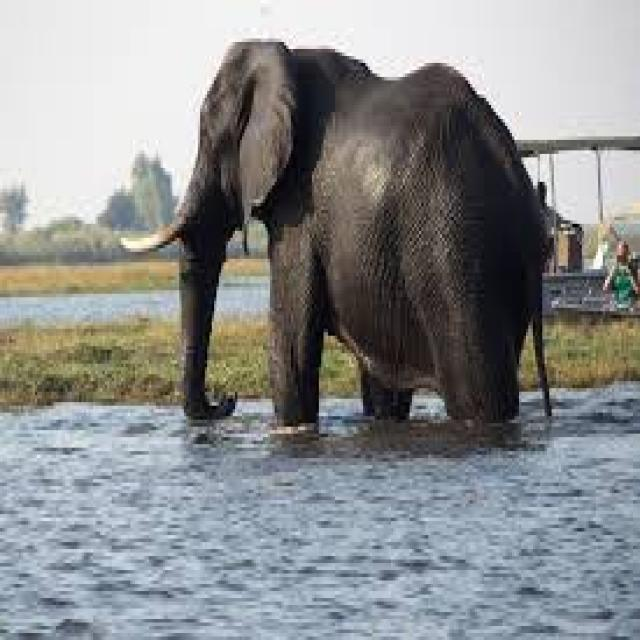Elephant: (119, 35, 554, 427)
person: (600, 238, 638, 308)
